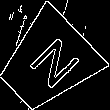N_SW: (16, 31, 79, 95)
